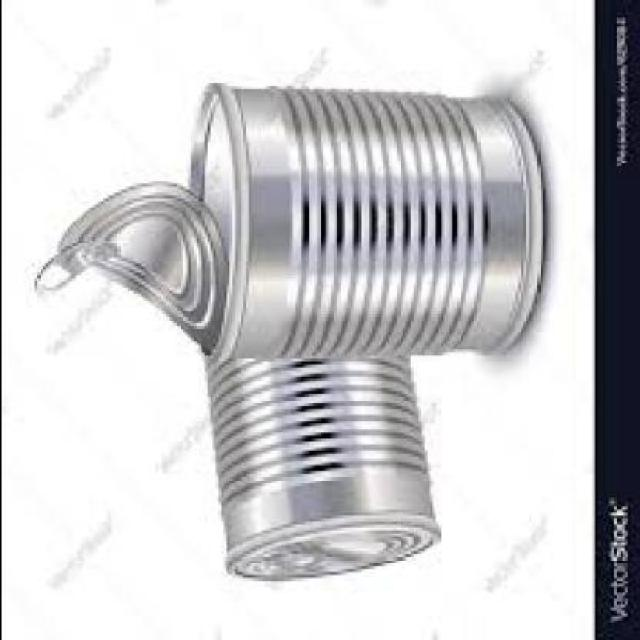METAL: (36, 86, 544, 365), (187, 95, 544, 362), (194, 359, 434, 583), (33, 183, 215, 359), (28, 232, 118, 296)
